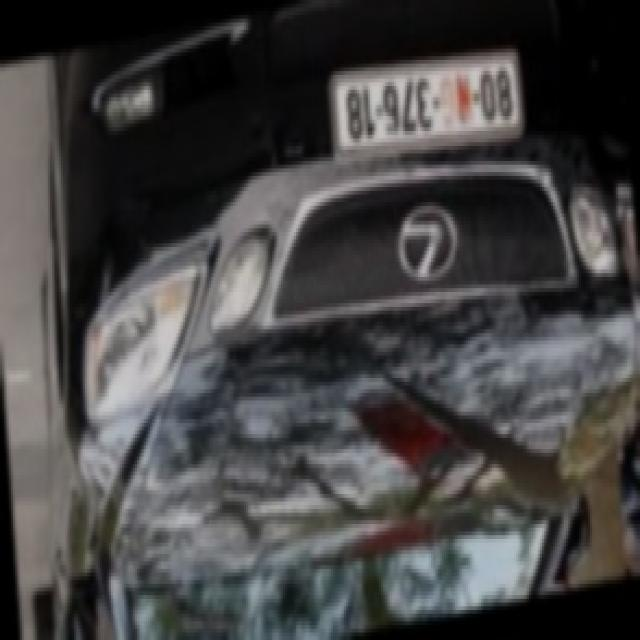bien_ngoai_giao: (329, 49, 524, 160)
